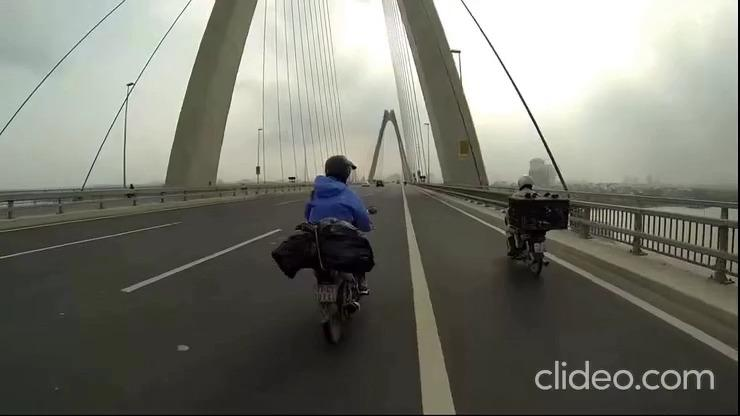helmet: (324, 154, 358, 183), (517, 174, 535, 192)
